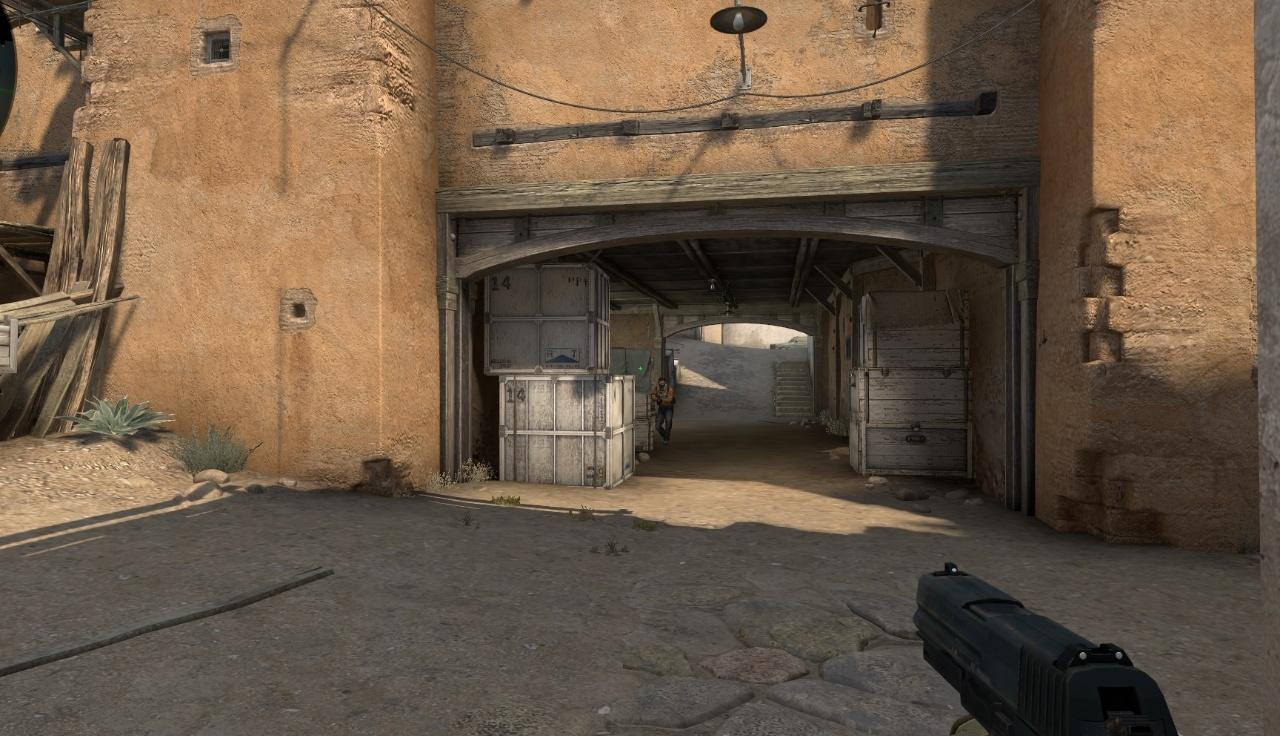pistol: (915, 562, 1180, 736)
tt: (651, 378, 676, 446)
tthead: (658, 378, 666, 388)
